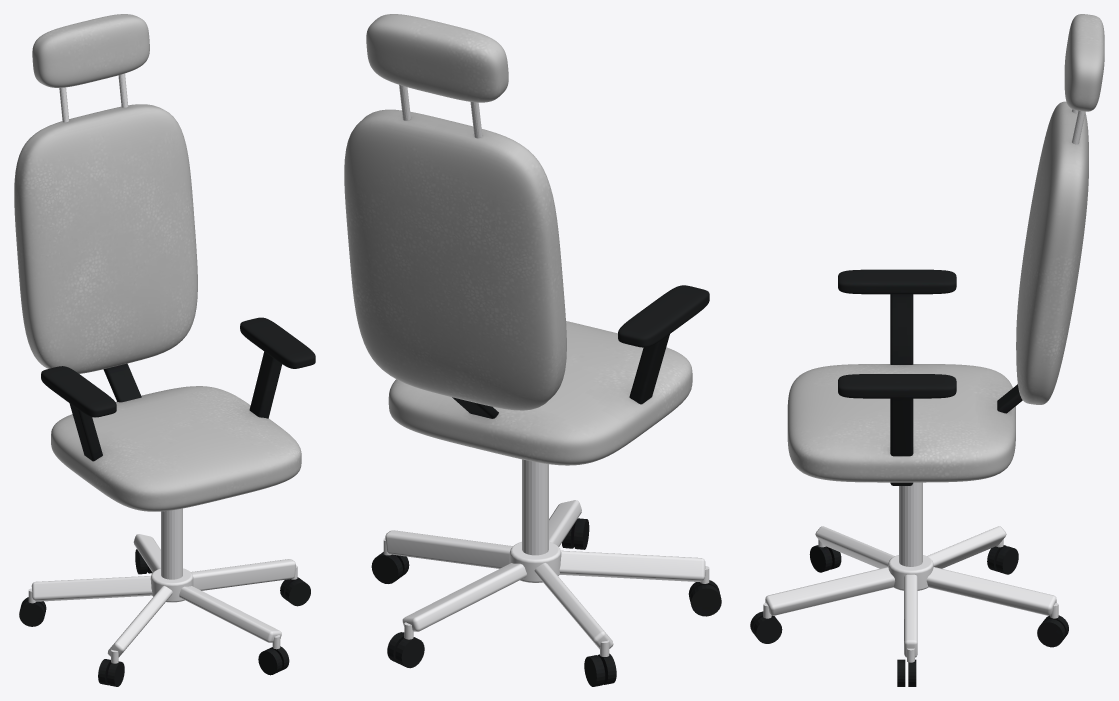
File: executive-leather.glb
3 renders of one model, left to right at view 1: azimuth 30°, elevation 25°; view 2: azimuth 150°, elevation 25°; view 3: azimuth 270°, elevation 25°, orthographic. The views are drawn at different scales.
Parts seen in each view (by area): view 1: fabric_primary, chrome, plastic_black; view 2: fabric_primary, chrome, plastic_black; view 3: fabric_primary, chrome, plastic_black.
Boxes of the visible parts, x1=… form: fabric_primary: x1=14, y1=14, x2=301, y2=511; chrome: x1=28, y1=73, x2=297, y2=663; plastic_black: x1=19, y1=317, x2=315, y2=686; fabric_primary: x1=344, y1=14, x2=692, y2=465; chrome: x1=383, y1=85, x2=709, y2=656; plastic_black: x1=371, y1=285, x2=721, y2=686; fabric_primary: x1=787, y1=14, x2=1104, y2=482; chrome: x1=763, y1=109, x2=1085, y2=662; plastic_black: x1=750, y1=269, x2=1068, y2=686.
Bounding box in the file's own units: 0.67 × 1.42 × 0.7756.
Materials: 3 (2 with a texture image).
